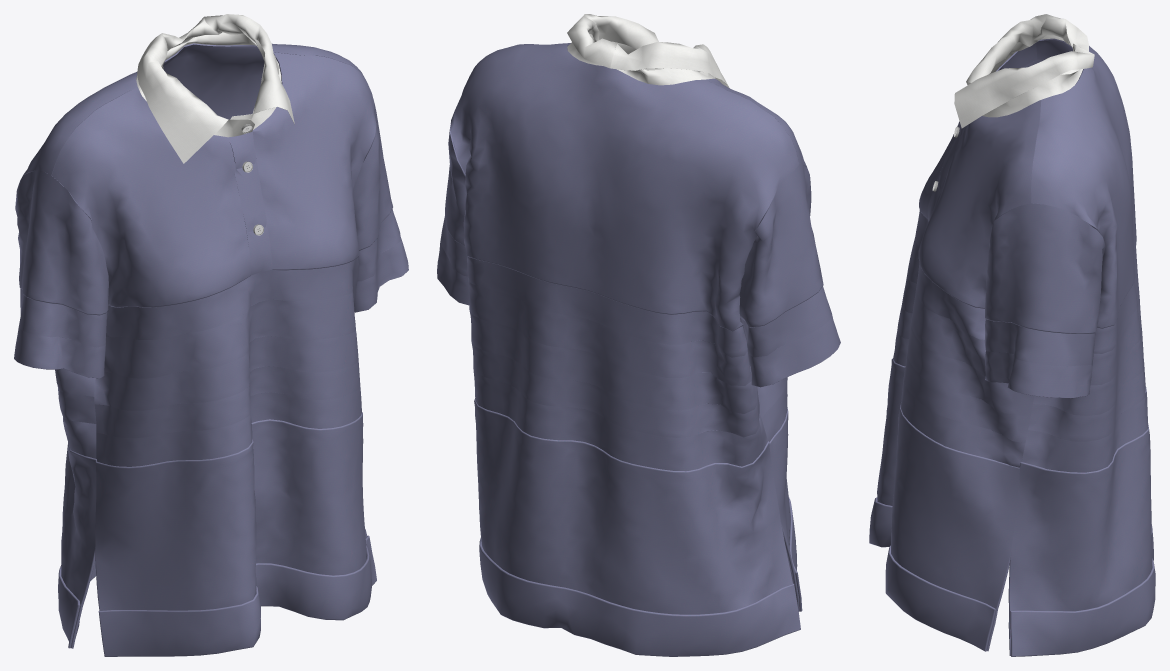
3 renders of one model, left to right at view 1: azimuth 30°, elevation 25°; view 2: azimuth 150°, elevation 25°; view 3: azimuth 270°, elevation 25°, orthographic. The views are drawn at different scales.
Parts seen in each view (by area): view 1: Pattern2D_3346071, Pattern2D_3477746, Pattern2D_3483599, Pattern2D_614027, Pattern2D_3424674, Pattern2D_420041, Pattern2D_420052, Pattern2D_3459562, Pattern2D_420022, Pattern2D_420074, Pattern2D_420063, Pattern2D_533010 (+14 smaller); view 2: Pattern2D_3459562, Pattern2D_3462828, Pattern2D_614552, Pattern2D_430427, Pattern2D_501064, Pattern2D_430405, Pattern2D_3424674, Pattern2D_501049, Pattern2D_430416, Pattern2D_338536, Pattern2D_533716, Pattern2D_322252 (+9 smaller); view 3: Pattern2D_3462828, Pattern2D_3346071, Pattern2D_3459562, Pattern2D_3483599, Pattern2D_3420210, Pattern2D_614552, Pattern2D_614027, Pattern2D_430427, Pattern2D_420052, Pattern2D_533716, Pattern2D_420074, Pattern2D_420063 (+12 smaller).
Part boxes in pixels (x1,y1,x2,y2): Pattern2D_3346071: [95, 412, 366, 610]; Pattern2D_3477746: [51, 87, 251, 307]; Pattern2D_3483599: [252, 52, 375, 270]; Pattern2D_614027: [98, 535, 376, 656]; Pattern2D_3424674: [15, 170, 108, 315]; Pattern2D_420041: [104, 284, 356, 378]; Pattern2D_420052: [94, 331, 358, 410]; Pattern2D_3459562: [23, 43, 365, 175]; Pattern2D_420022: [106, 257, 359, 339]; Pattern2D_420074: [96, 386, 361, 466]; Pattern2D_420063: [94, 361, 360, 438]; Pattern2D_533010: [137, 29, 228, 163]; Pattern2D_3459562: [451, 43, 799, 331]; Pattern2D_3462828: [474, 398, 792, 614]; Pattern2D_614552: [479, 538, 800, 656]; Pattern2D_430427: [473, 368, 767, 471]; Pattern2D_501064: [468, 278, 751, 385]; Pattern2D_430405: [469, 310, 757, 413]; Pattern2D_3424674: [739, 163, 823, 327]; Pattern2D_501049: [467, 256, 747, 357]; Pattern2D_430416: [471, 341, 759, 437]; Pattern2D_338536: [747, 314, 840, 387]; Pattern2D_533716: [567, 14, 658, 68]; Pattern2D_322252: [740, 286, 831, 357]; Pattern2D_3462828: [1008, 386, 1152, 611]; Pattern2D_3346071: [877, 358, 1019, 609]; Pattern2D_3459562: [1031, 38, 1136, 328]; Pattern2D_3483599: [918, 100, 1041, 308]; Pattern2D_3420210: [985, 203, 1105, 333]; Pattern2D_614552: [1010, 524, 1155, 656]; Pattern2D_614027: [869, 497, 996, 651]; Pattern2D_430427: [1021, 359, 1147, 472]; Pattern2D_420052: [901, 277, 1034, 416]; Pattern2D_533716: [954, 43, 1094, 128]; Pattern2D_420074: [893, 331, 1025, 467]; Pattern2D_420063: [897, 305, 1030, 443].
Size of the model in its own units: 48.59 by 69.19 by 31.92.
